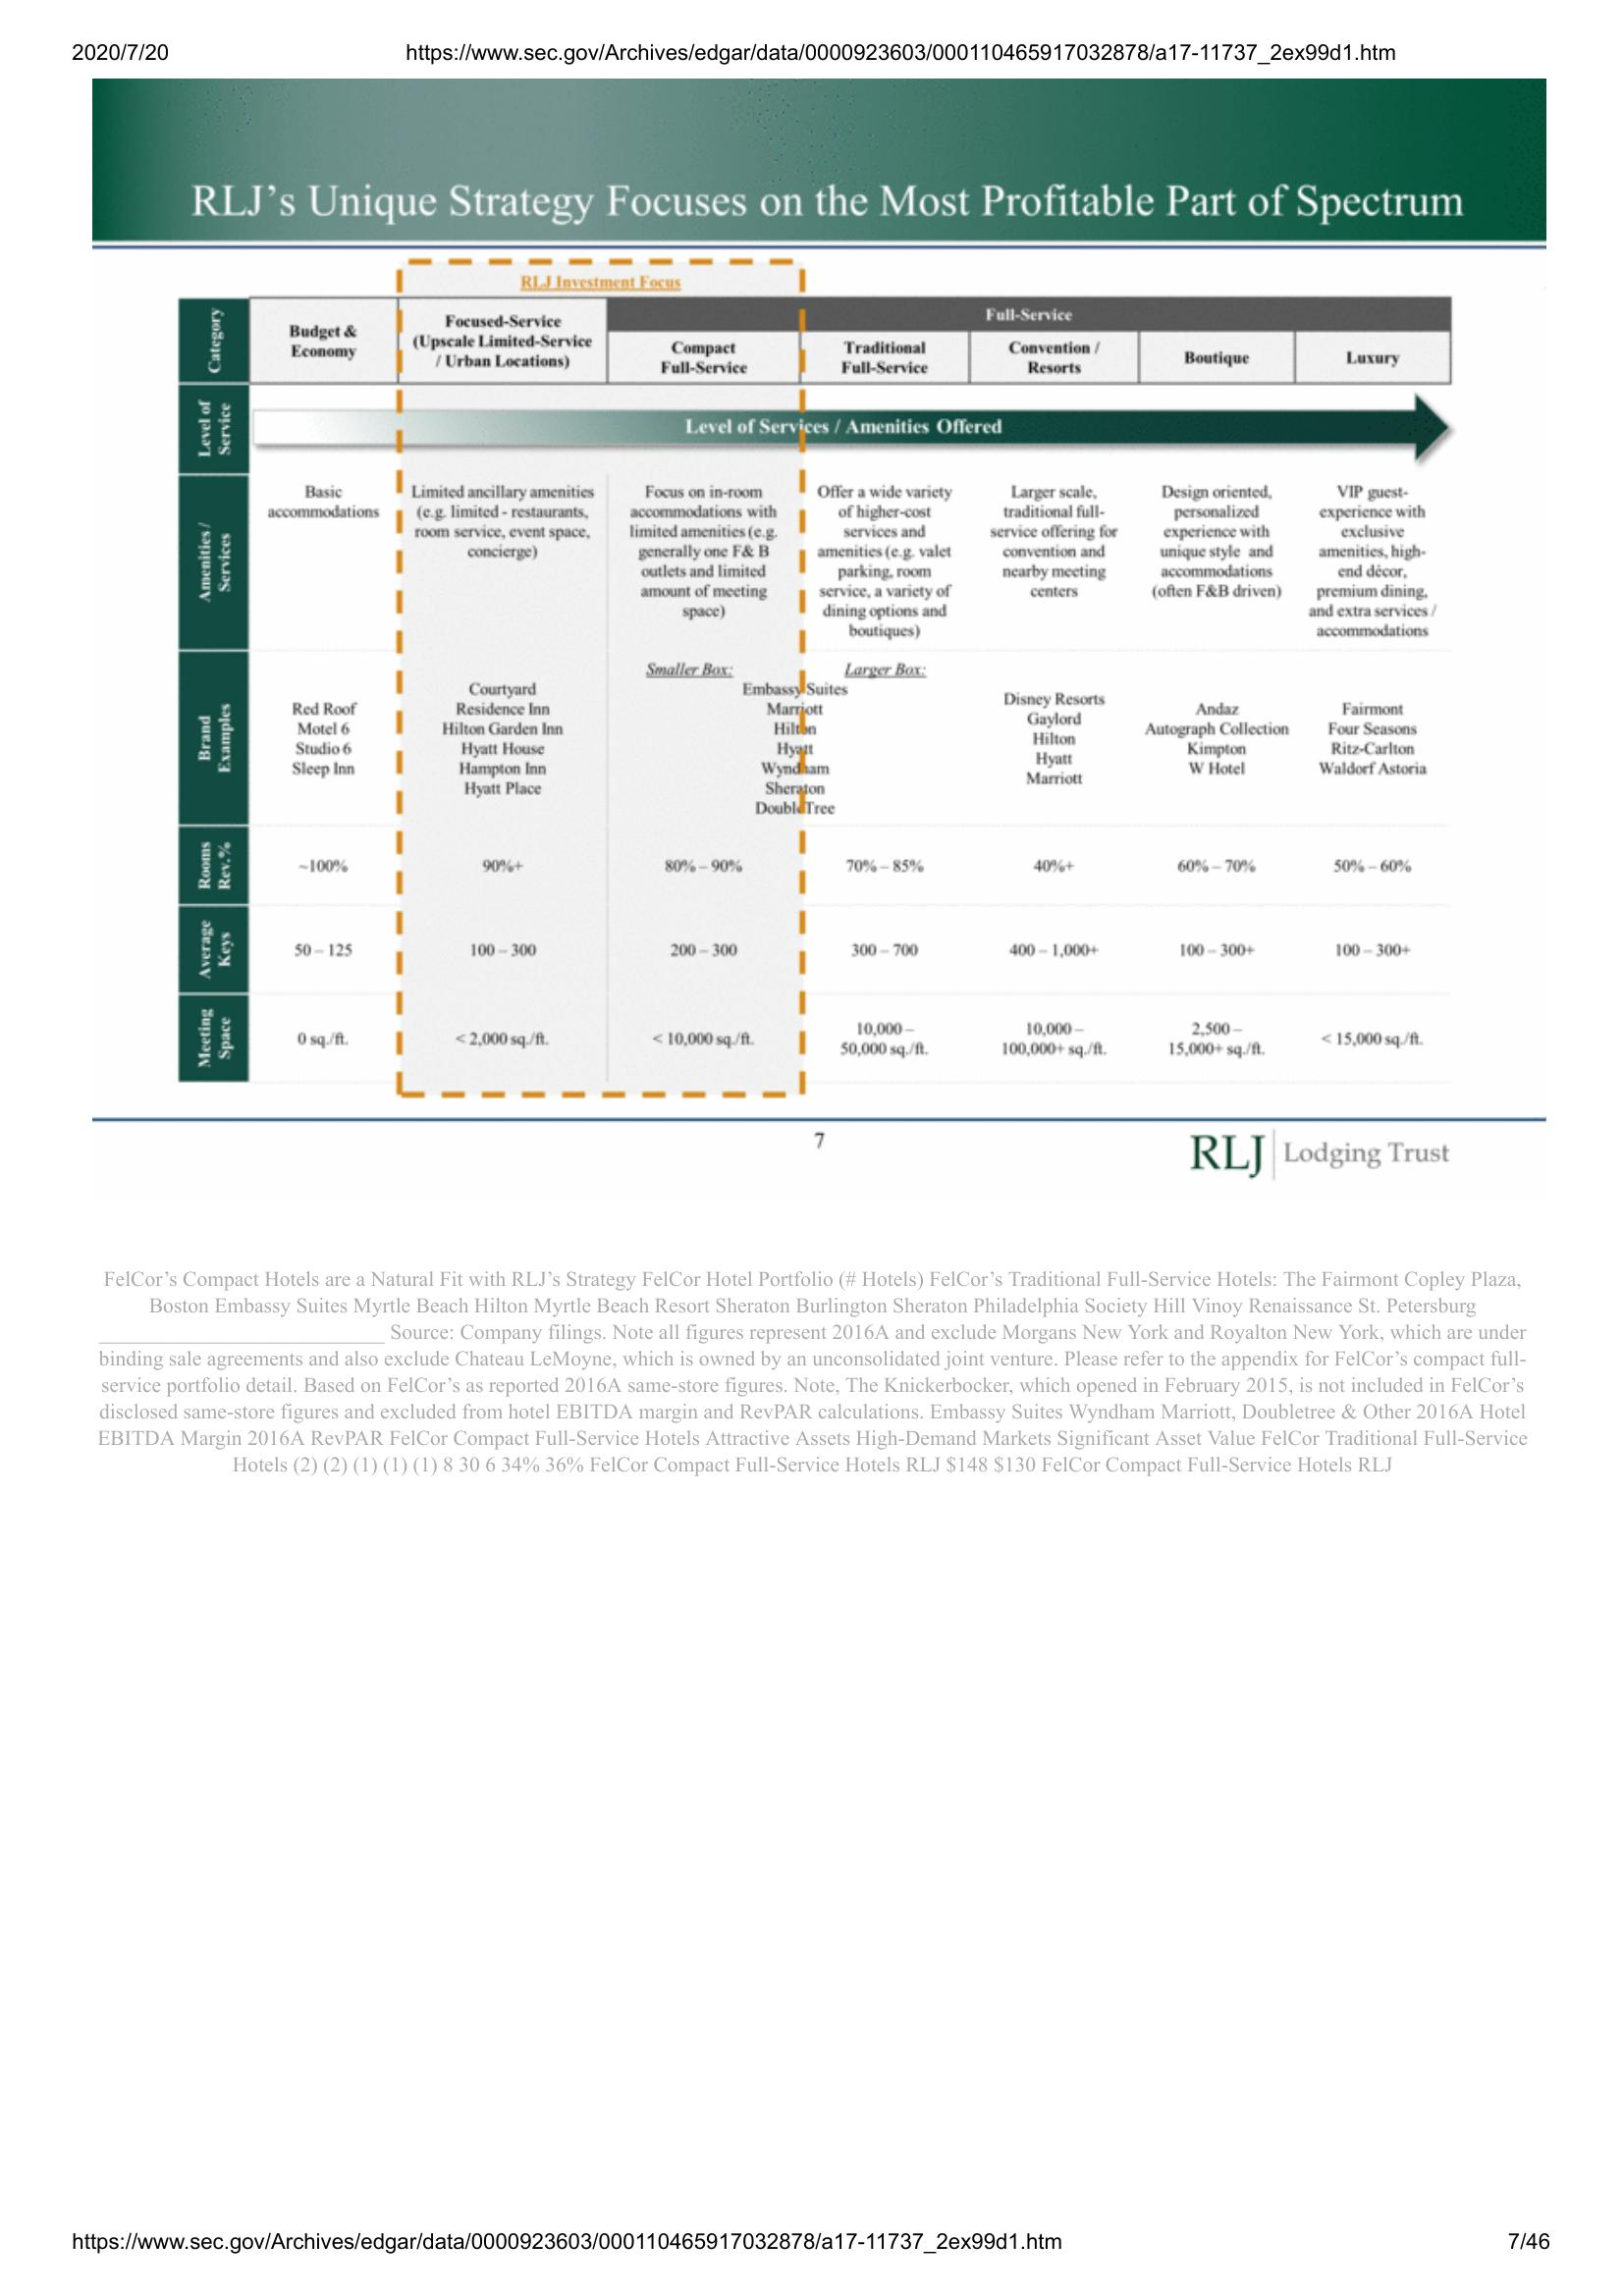table: (172, 277, 1470, 1080)
